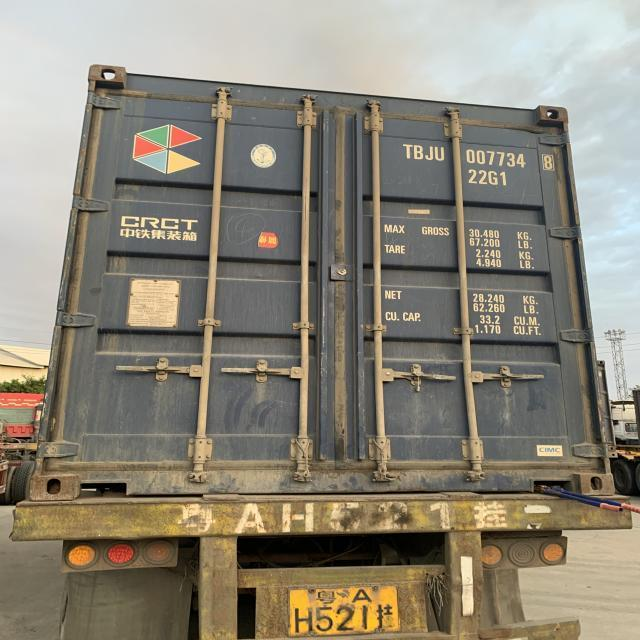ISO: (467, 170, 509, 188)
container_number: (410, 148, 553, 168)
